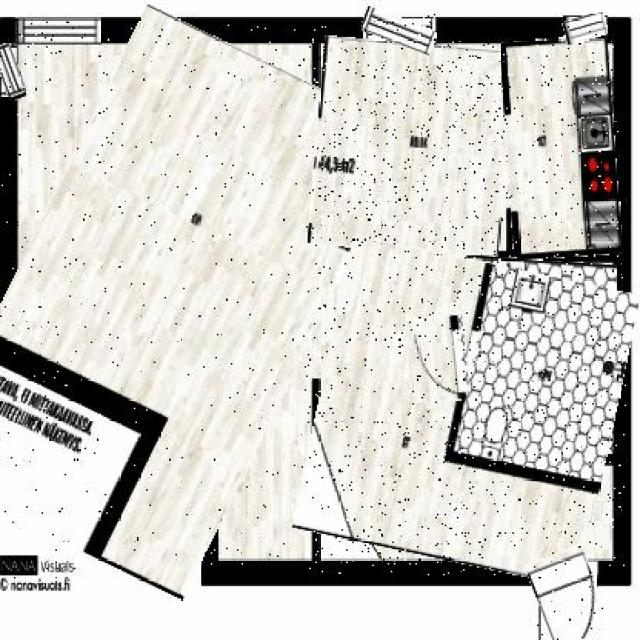door: (530, 547, 604, 640), (408, 317, 468, 401)
window: (360, 14, 437, 51), (15, 17, 100, 43), (563, 15, 608, 43), (0, 43, 22, 100)
zone: (0, 23, 360, 580), (306, 250, 626, 576), (312, 40, 512, 254), (458, 258, 616, 458), (504, 37, 618, 258)
